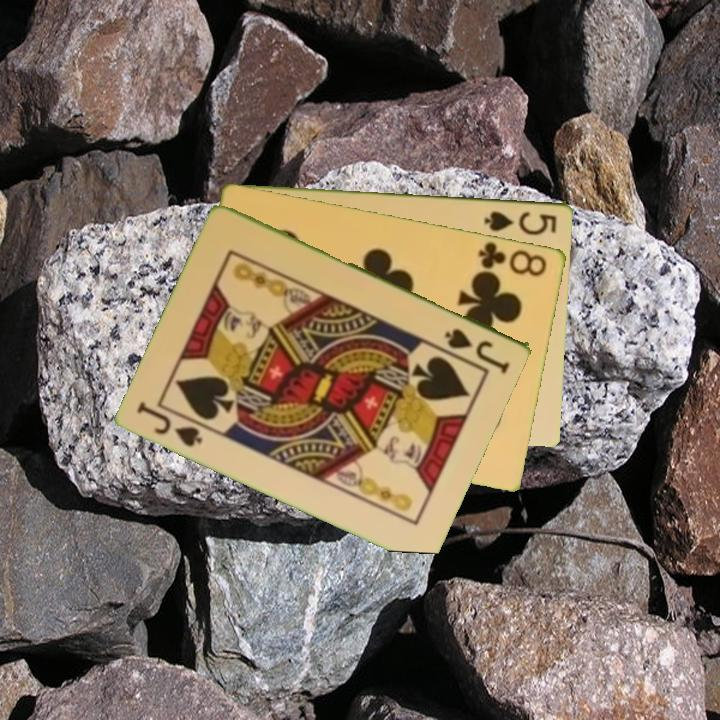5s: (481, 207, 560, 236)
8c: (475, 238, 550, 279)
Js: (133, 397, 206, 450), (441, 324, 513, 374)
